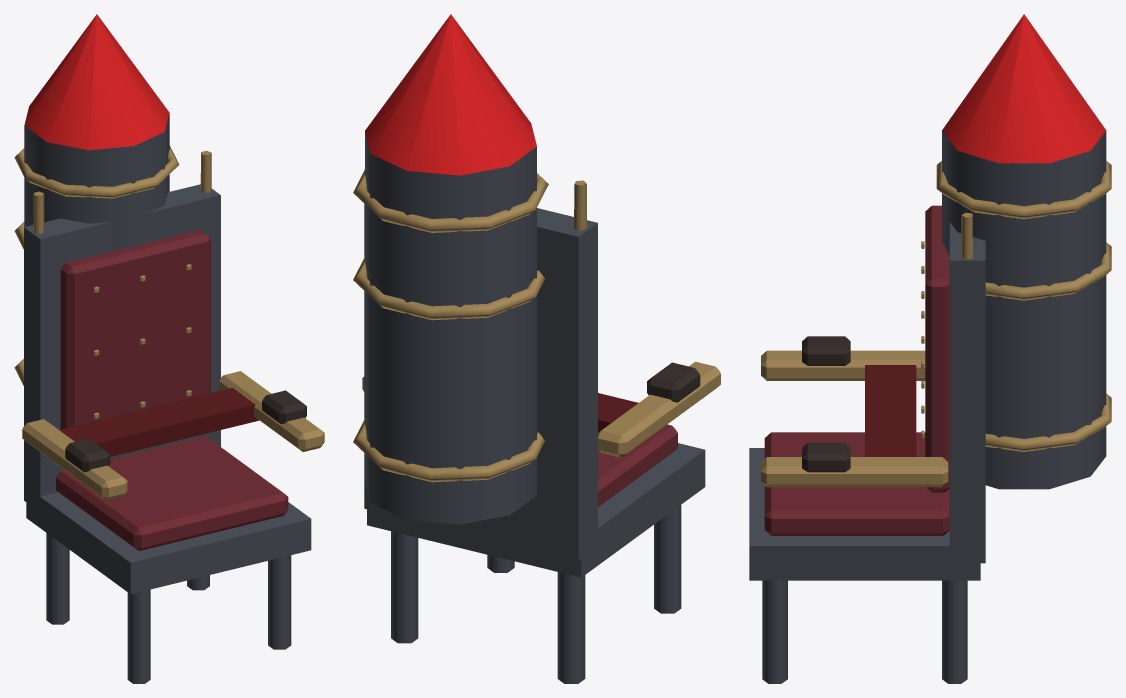
The model's file is chair.glb.
3 views of the same model, side by side, from view 1: azimuth 30°, elevation 25°; view 2: azimuth 150°, elevation 25°; view 3: azimuth 270°, elevation 25° (orthographic). The views are drawn at different scales.
Parts seen in each view (by area): view 1: Carnival_chair_surface, Carnival_chair_Oxblood_upholstery, Carnival_chair, Carnival_chair_Chair_brass, Carnival_chair_Restraint_leather; view 2: Carnival_chair_surface, Carnival_chair, Carnival_chair_Chair_brass, Carnival_chair_Oxblood_upholstery, Carnival_chair_Restraint_leather; view 3: Carnival_chair_surface, Carnival_chair, Carnival_chair_Oxblood_upholstery, Carnival_chair_Chair_brass, Carnival_chair_Restraint_leather.
Part boxes in pixels (x1=…): Carnival_chair_surface: x1=24, y1=113, x2=311, y2=683; Carnival_chair_Oxblood_upholstery: x1=56, y1=230, x2=288, y2=550; Carnival_chair: x1=24, y1=14, x2=259, y2=456; Carnival_chair_Chair_brass: x1=14, y1=146, x2=324, y2=500; Carnival_chair_Restraint_leather: x1=65, y1=390, x2=306, y2=472; Carnival_chair_surface: x1=364, y1=132, x2=705, y2=683; Carnival_chair: x1=365, y1=14, x2=638, y2=432; Carnival_chair_Chair_brass: x1=353, y1=169, x2=720, y2=482; Carnival_chair_Oxblood_upholstery: x1=598, y1=424, x2=677, y2=506; Carnival_chair_Restraint_leather: x1=647, y1=362, x2=700, y2=402; Carnival_chair_surface: x1=749, y1=131, x2=1106, y2=683; Carnival_chair: x1=865, y1=14, x2=1106, y2=456; Carnival_chair_Oxblood_upholstery: x1=764, y1=205, x2=949, y2=535; Carnival_chair_Chair_brass: x1=761, y1=161, x2=1111, y2=487; Carnival_chair_Restraint_leather: x1=802, y1=336, x2=850, y2=472.
Size of the model in its own units: 1.12 by 2.7 by 1.41.
